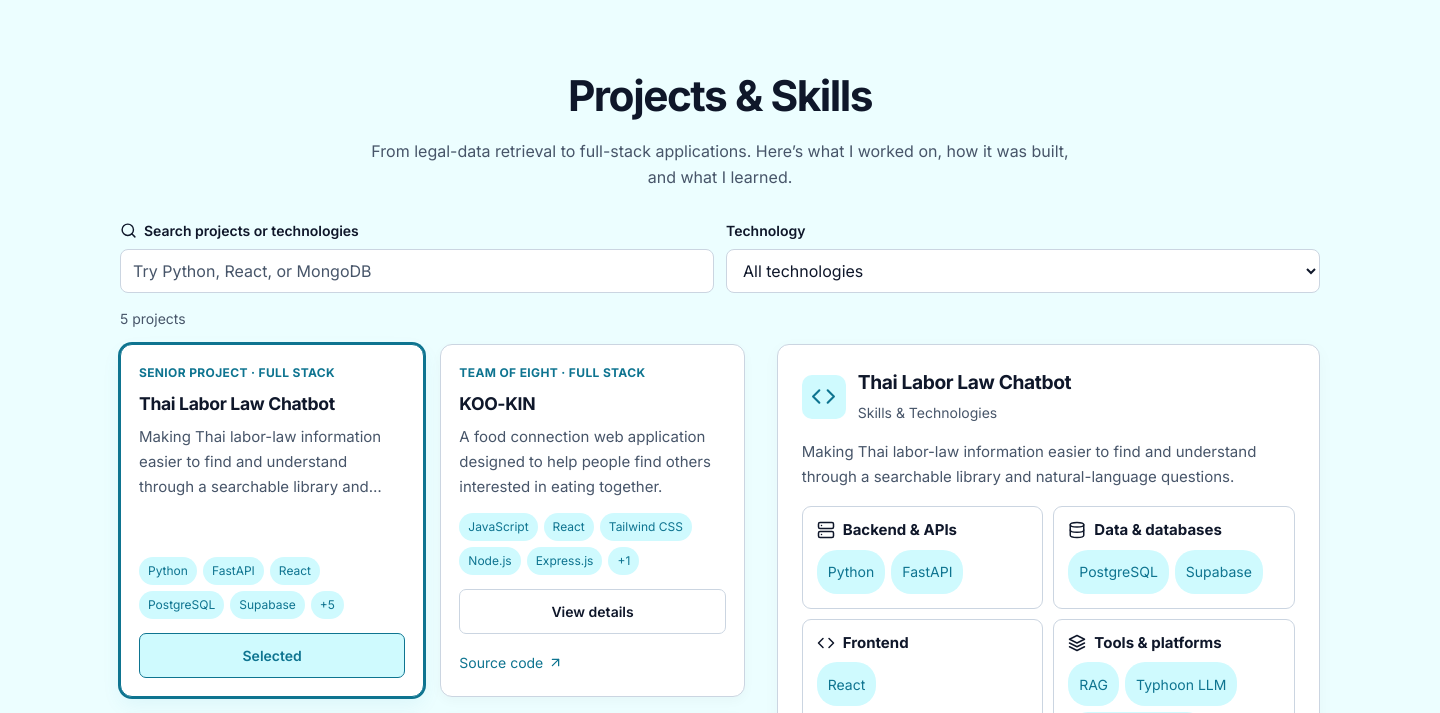
Project evidence › keeps selected details tied to a stable ID when filtering
Click the button named "View details: KOO-KIN": {"x": 593, "y": 612} left=459, top=589, right=726, bottom=634
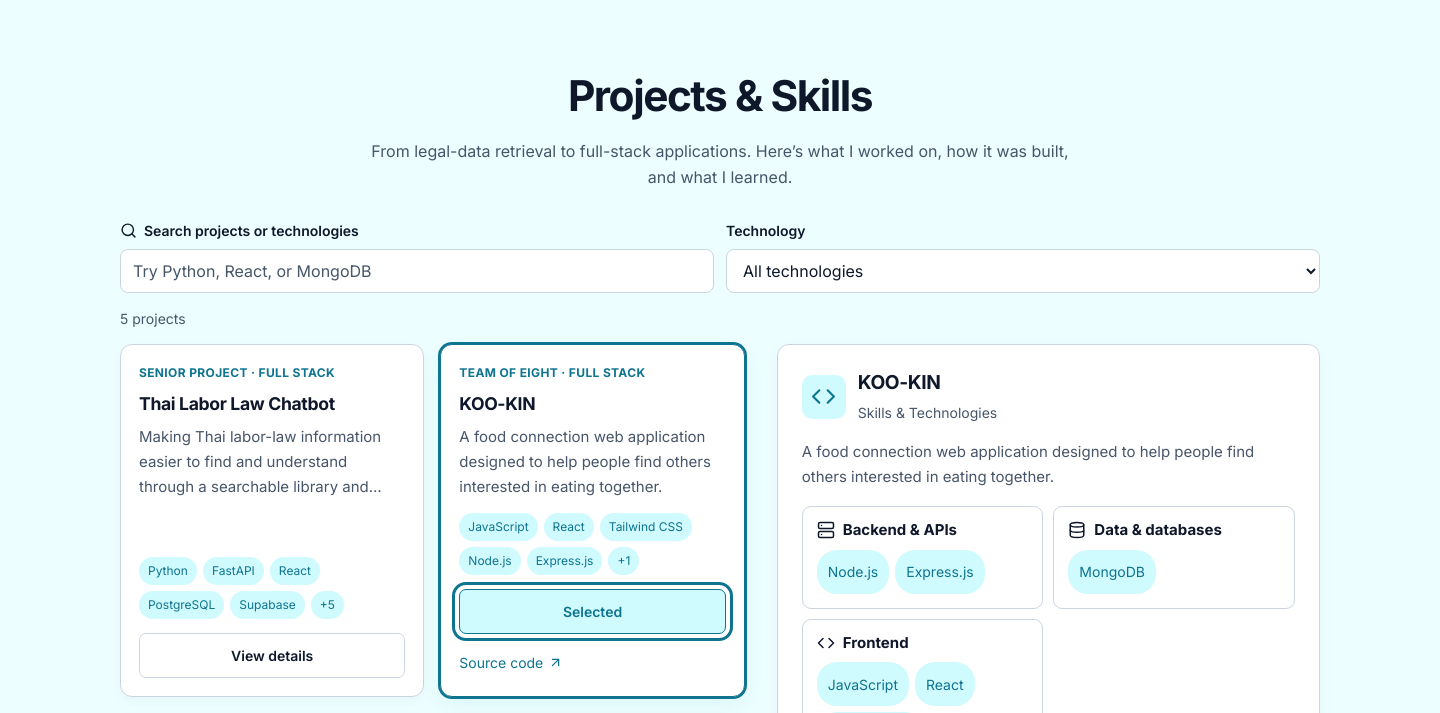
In the search field: {"x": 417, "y": 271} left=120, top=249, right=714, bottom=293, type "mongodb"
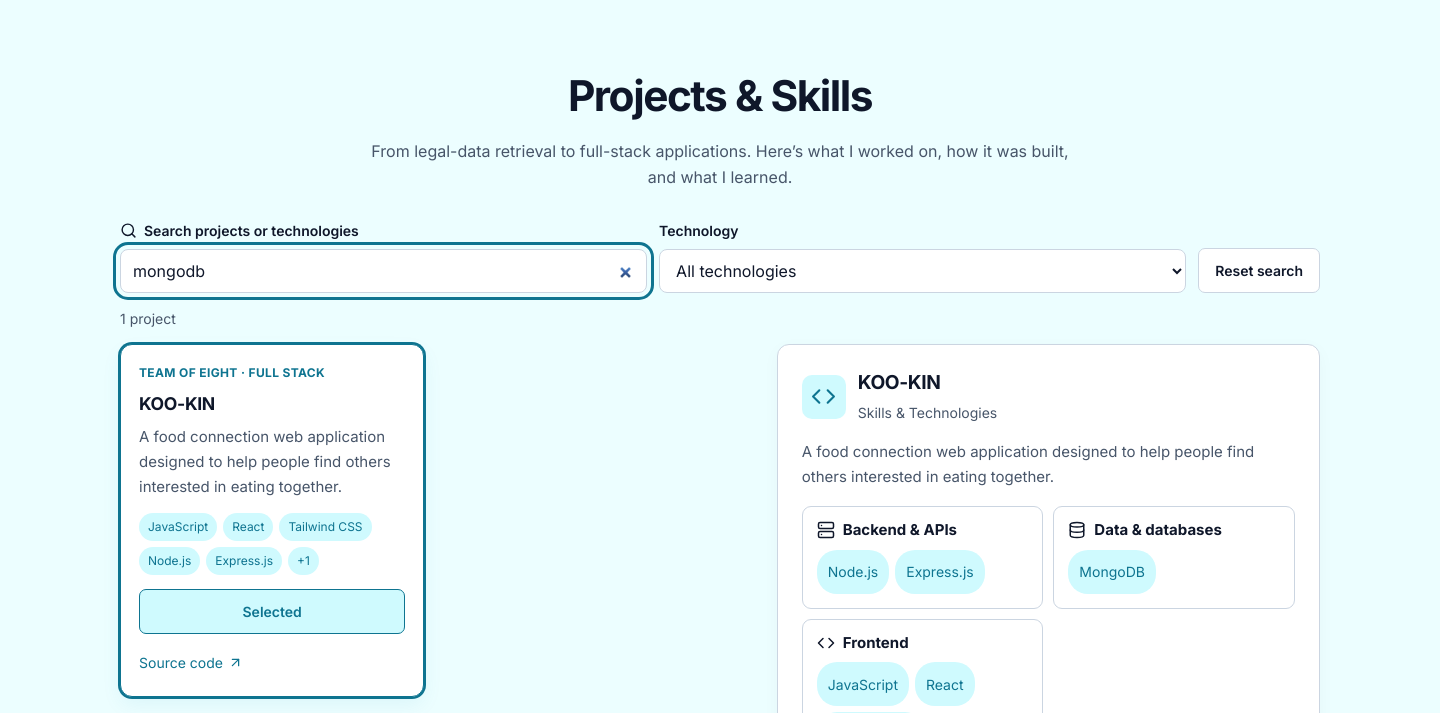
Clear the search field: {"x": 384, "y": 271} left=120, top=249, right=647, bottom=293
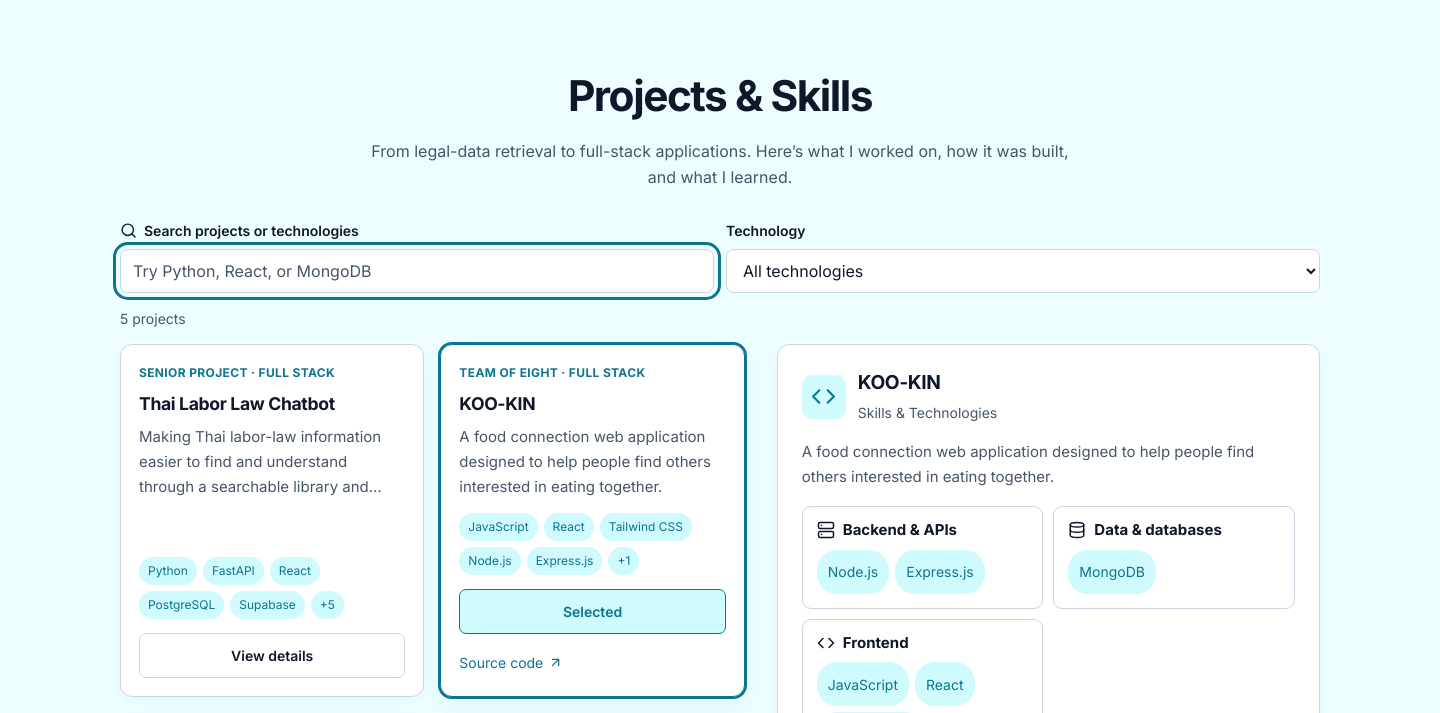
Select "FastAPI" in the dropdown labelled "Technology": {"x": 1023, "y": 271} left=726, top=249, right=1320, bottom=293
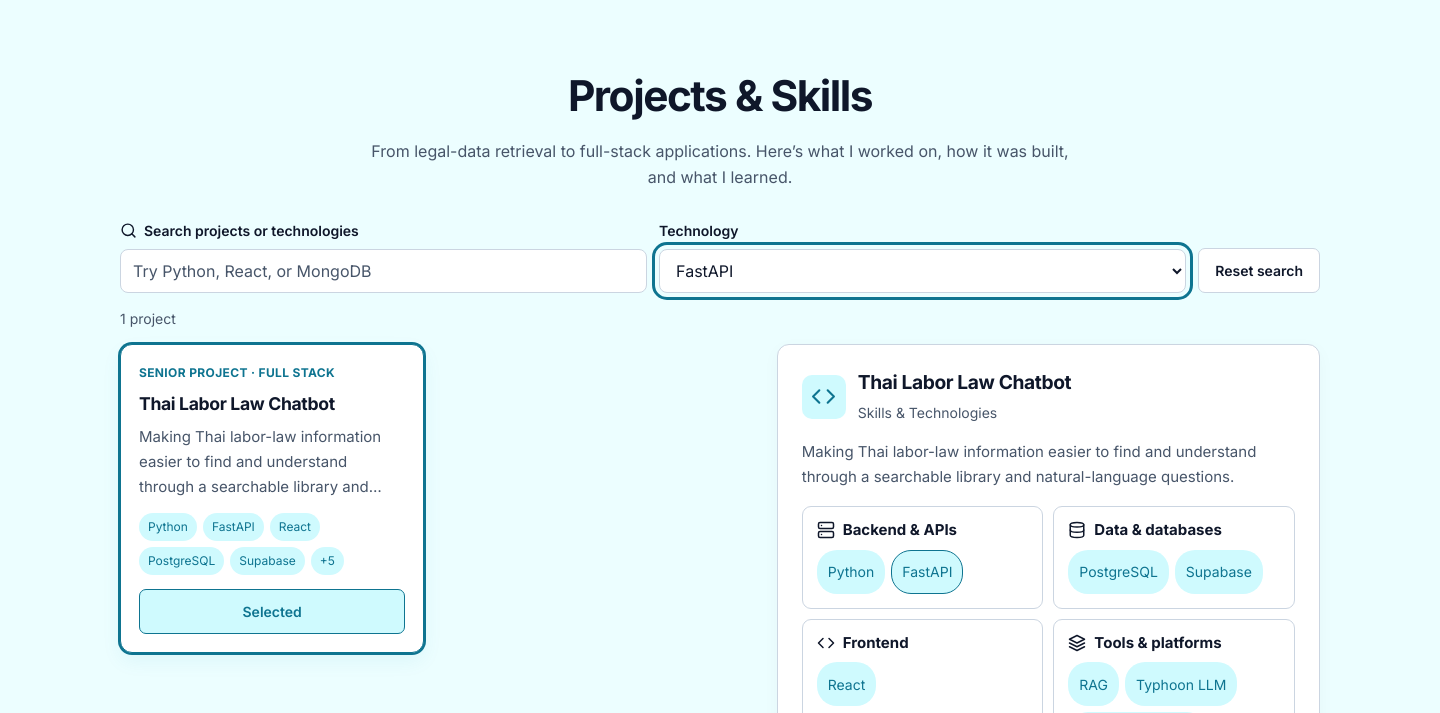
Result: the element named "Selected project details" shows "Thai Labor Law Chatbot" at left=858, top=370, right=1071, bottom=394
Click the button "Reset search": {"x": 1259, "y": 271} left=1198, top=248, right=1320, bottom=293
(page scrolled)
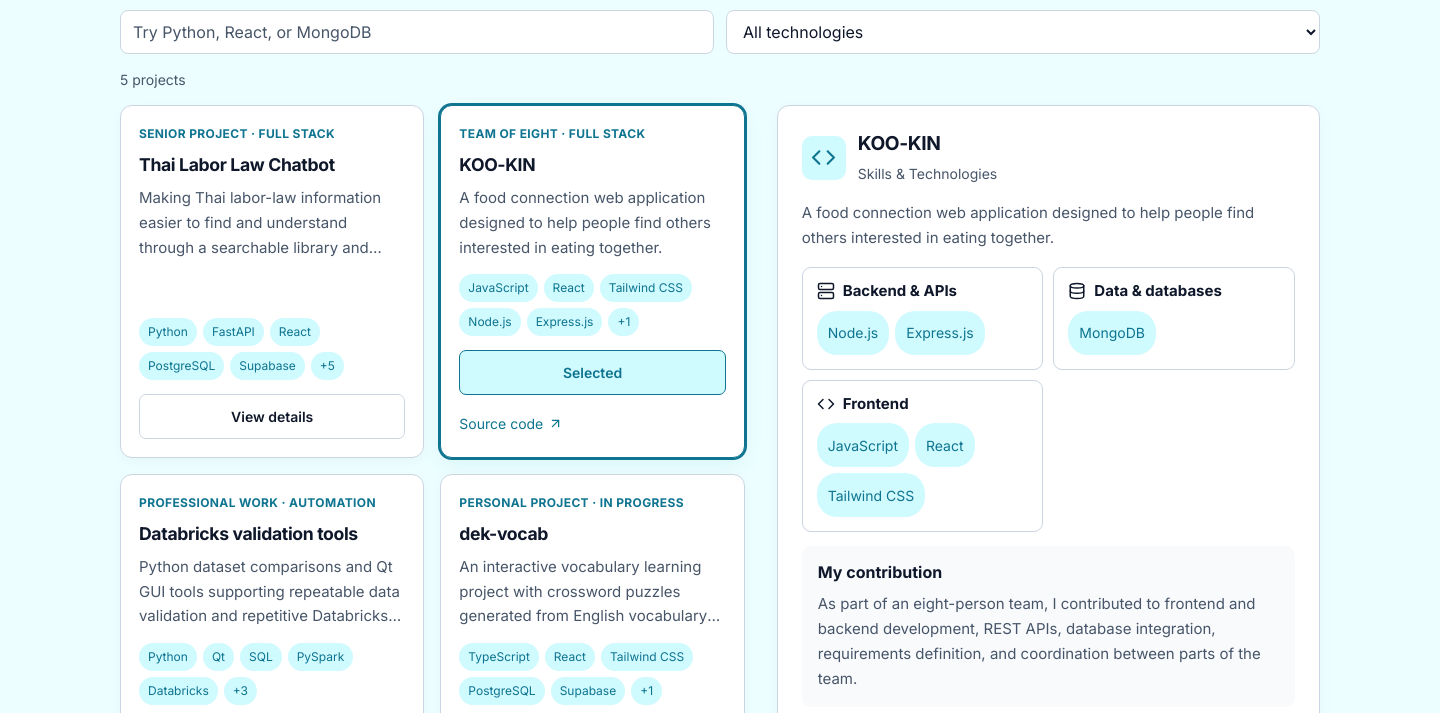
Result: the element named "Selected project details" shows "KOO-KIN" at left=858, top=131, right=940, bottom=155
